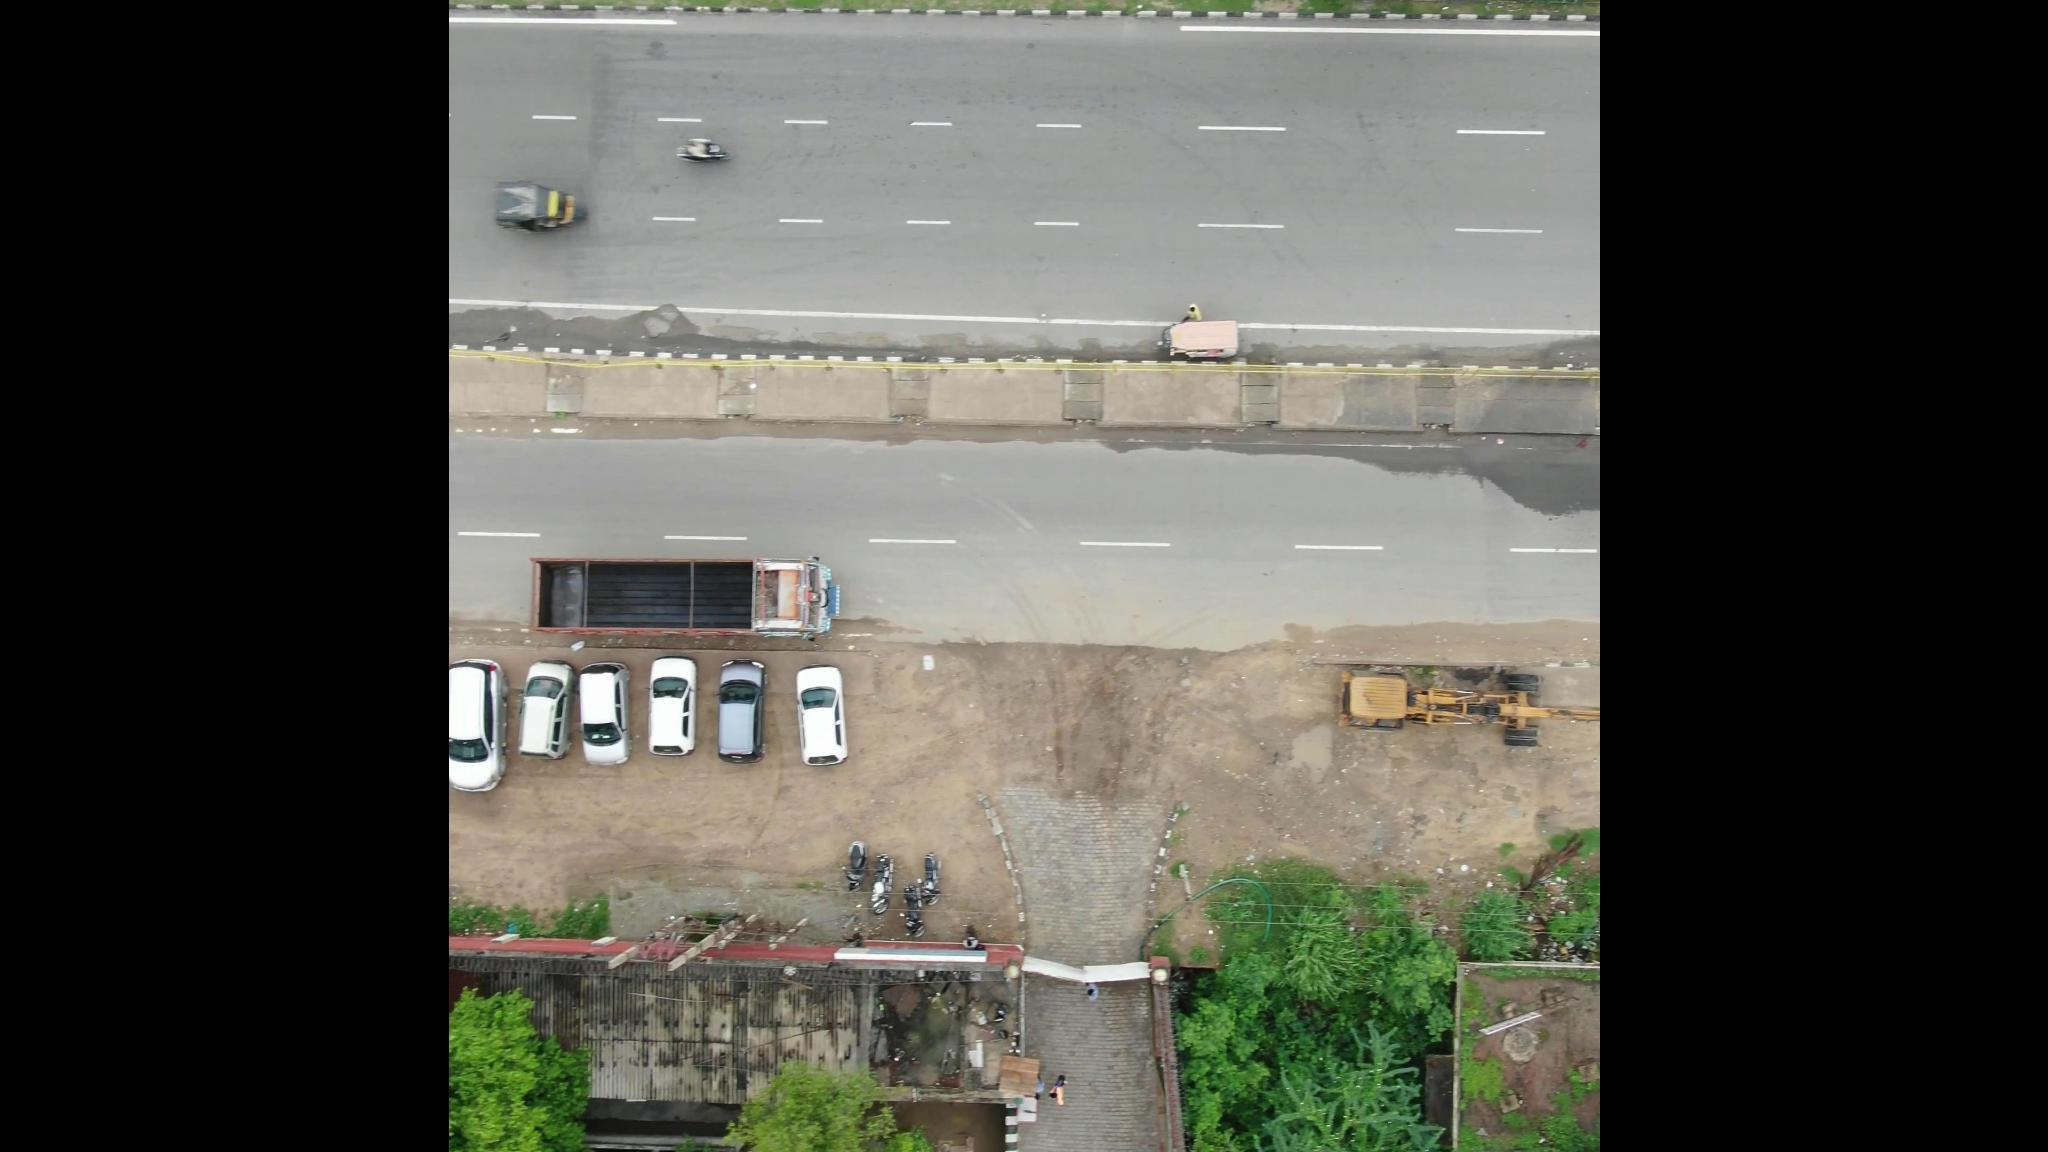Muddy_road: (1297, 608, 1589, 671)
